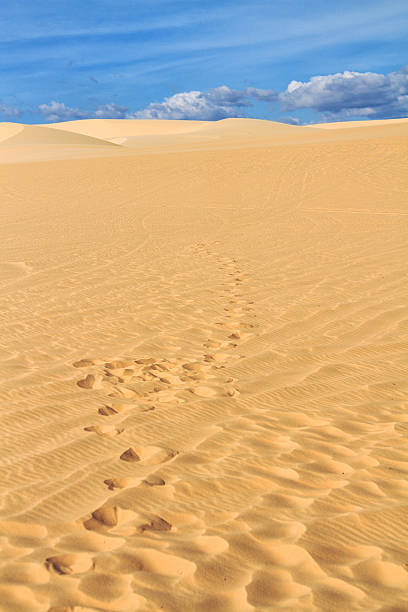human_foot_print: (79, 288, 253, 540)
